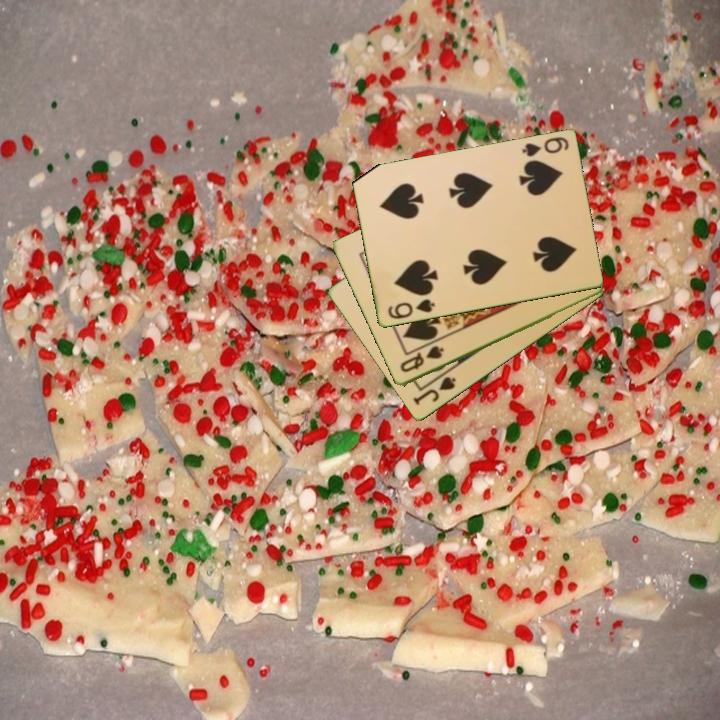6s: (384, 296, 437, 322), (518, 134, 571, 160)
Js: (409, 373, 459, 409)
Qs: (396, 343, 447, 376)
